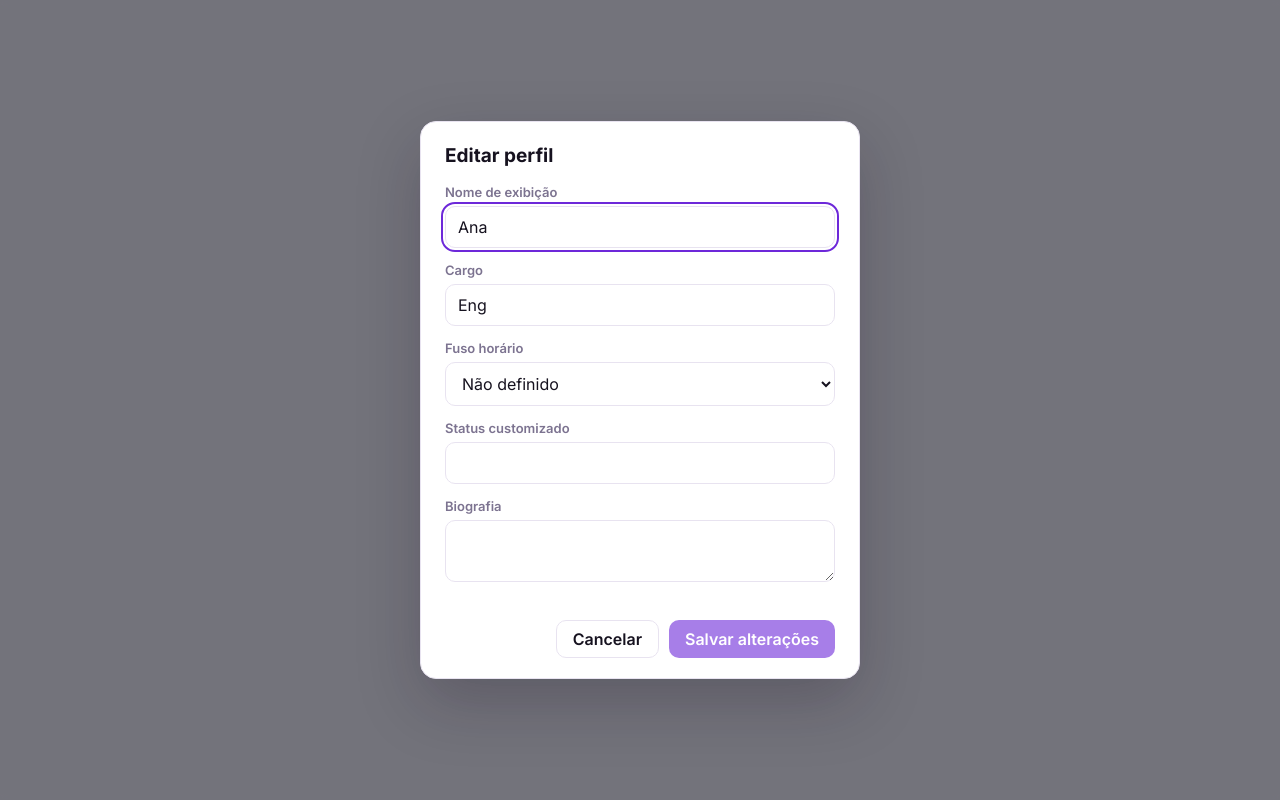
Test case: ProfileEditDialog › keeps the dialog open and the draft intact on a network error
Type " Costa" into the field labelled "Nome de exibição" at (640, 227), box [445,206,835,248]
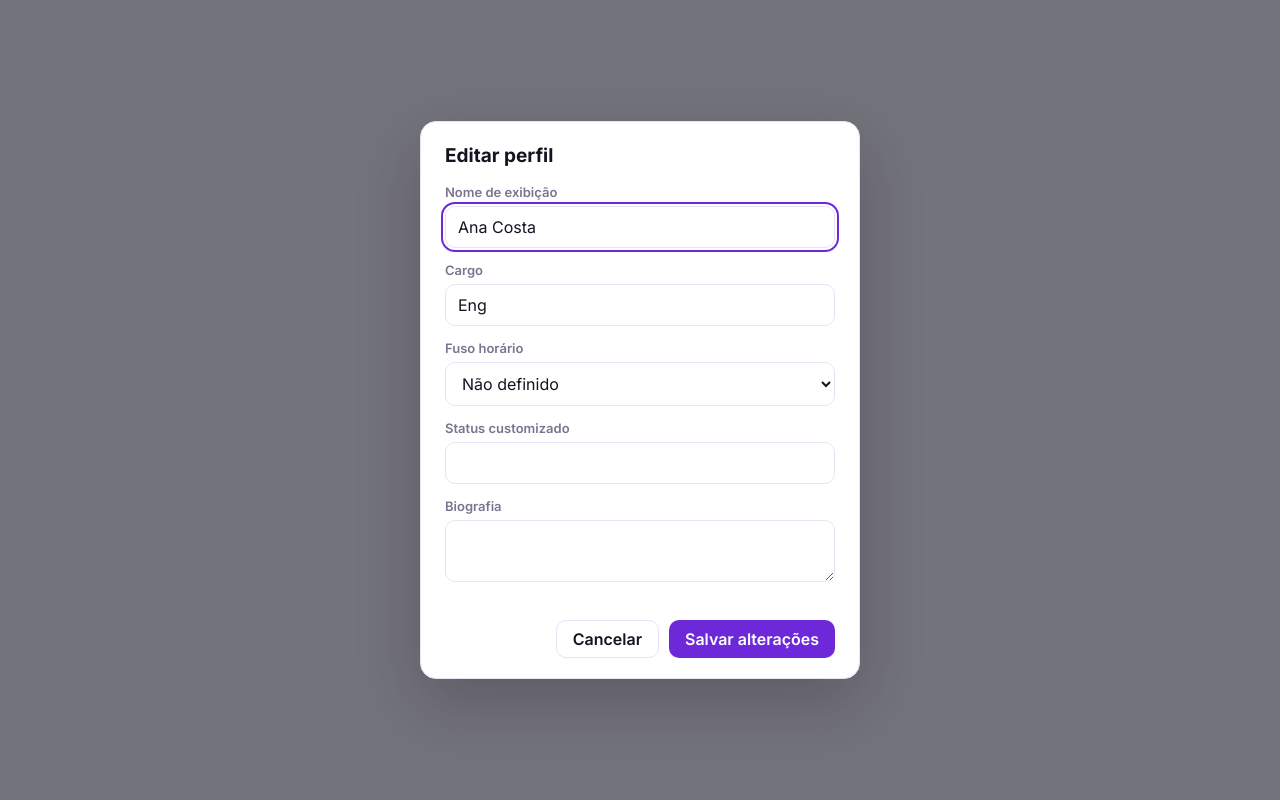
Click the button "Salvar alterações" at (752, 639), box [669,620,835,658]
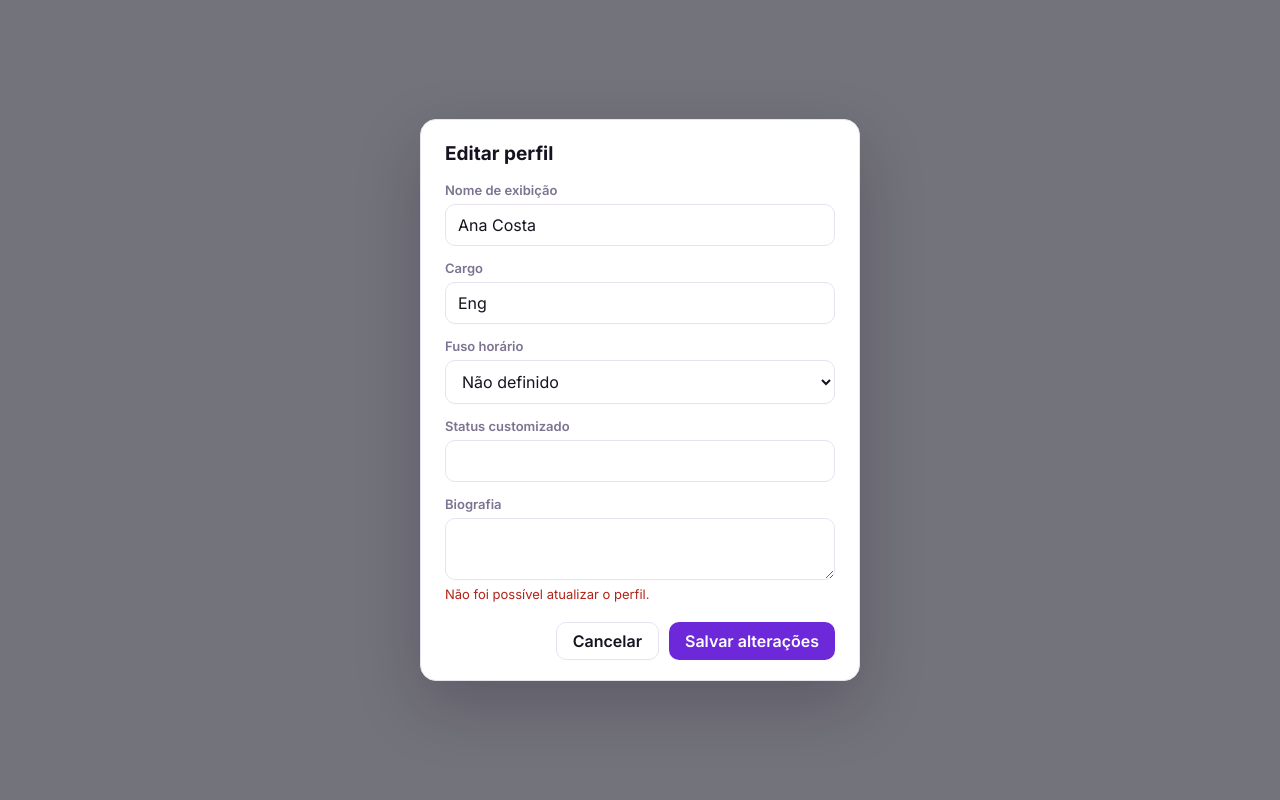
Result: the field labelled "Nome de exibição" holds "Ana Costa" at [445,204,835,246]
Result: the message shows "Não foi possível" at [445,586,650,602]
